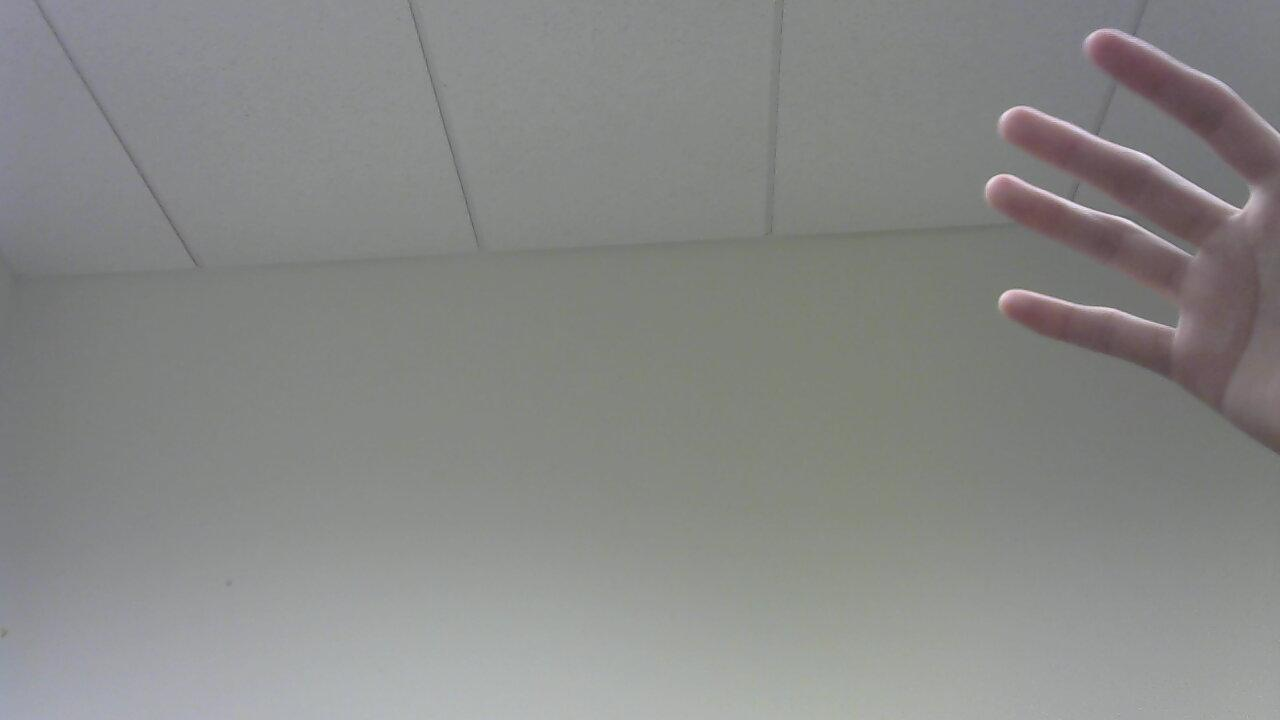hands: (976, 21, 1280, 455)
